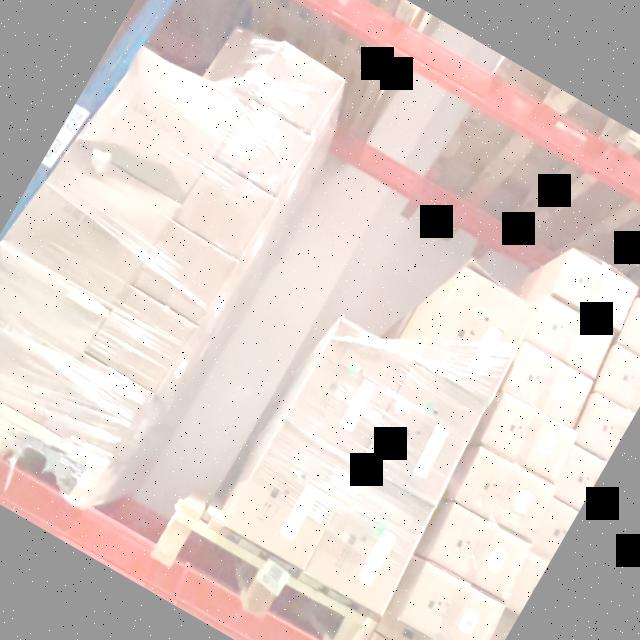box: (17, 144, 173, 302), (85, 48, 238, 200), (284, 322, 414, 461), (228, 426, 358, 564), (362, 369, 488, 503), (309, 476, 432, 608), (419, 271, 539, 398), (46, 357, 150, 458), (426, 508, 531, 603), (92, 288, 192, 386), (134, 225, 232, 322), (174, 162, 273, 258), (456, 452, 555, 536), (254, 44, 342, 130), (220, 108, 308, 194), (483, 398, 576, 479), (403, 568, 502, 640), (528, 300, 614, 376), (504, 349, 590, 424), (556, 253, 640, 328)
